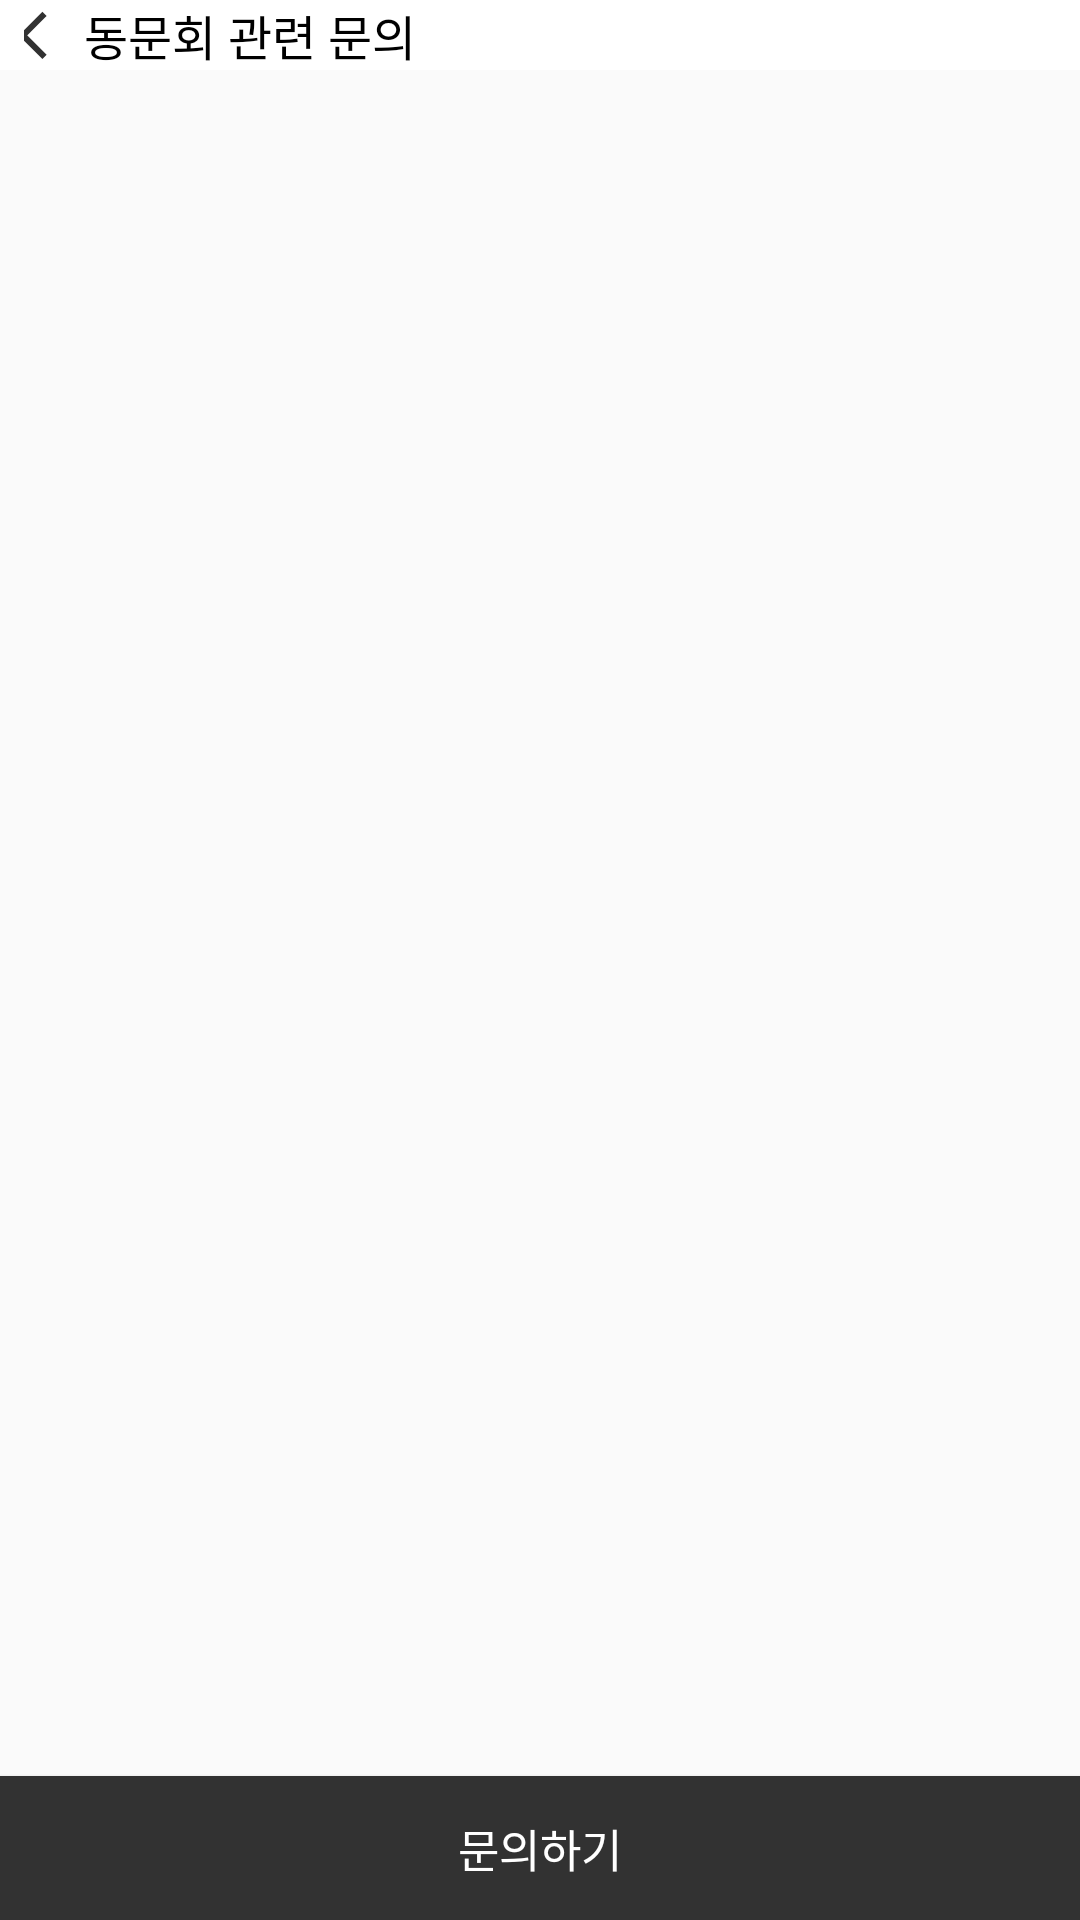

Icons on this 1080 x 1920 Android screen, each with the point to tap as (x=x, y=y):
back sharp: (x=35, y=35)
